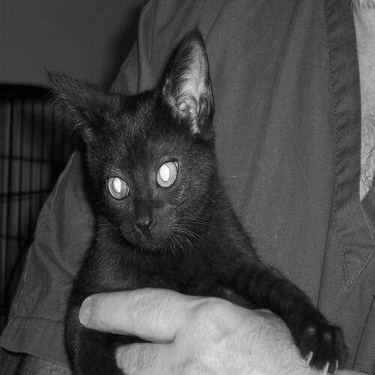cat: (40, 24, 345, 373)
